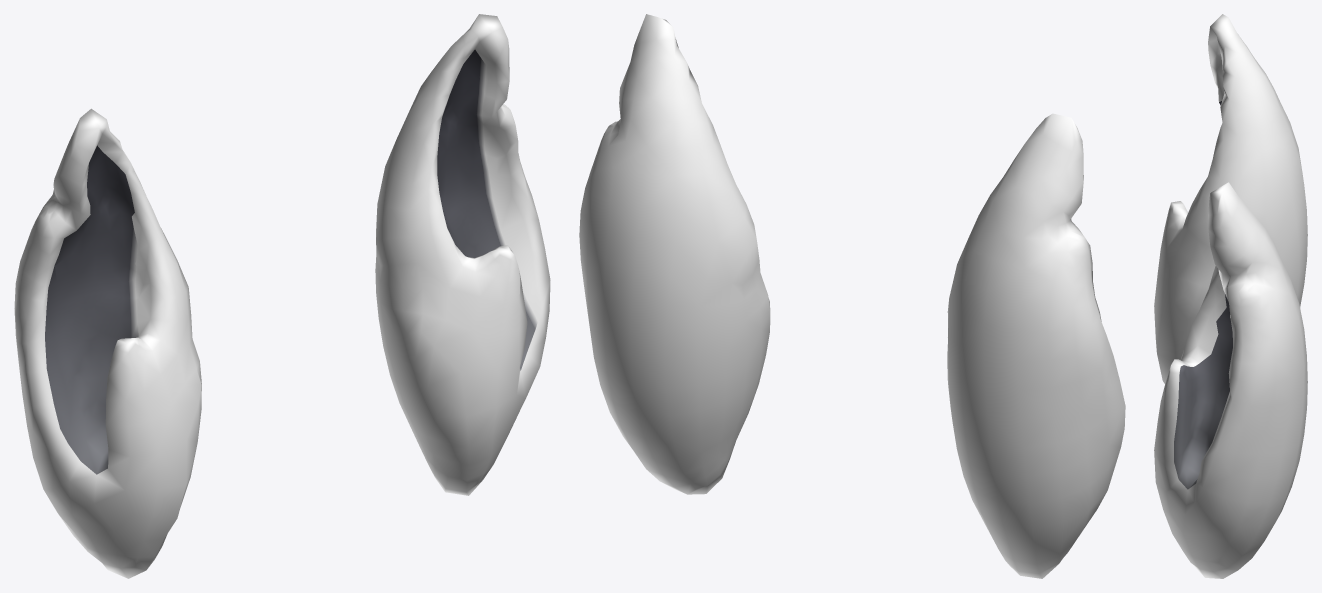
Rendered from ears2.fbx.
3 views of the same model, side by side, from view 1: azimuth 30°, elevation 25°; view 2: azimuth 150°, elevation 25°; view 3: azimuth 270°, elevation 25° (orthographic). The views are drawn at different scales.
Parts seen in each view (by area): view 1: ear_bat_left1; view 2: ear_bat_left1; view 3: ear_bat_left1.
Part boxes in pixels (box(x1,y1,x2,y2)): ear_bat_left1: box(14, 14, 550, 578); ear_bat_left1: box(579, 14, 1125, 578); ear_bat_left1: box(1154, 14, 1307, 578).
Size of the model in its own units: 2.52 by 2.17 by 0.7454.
